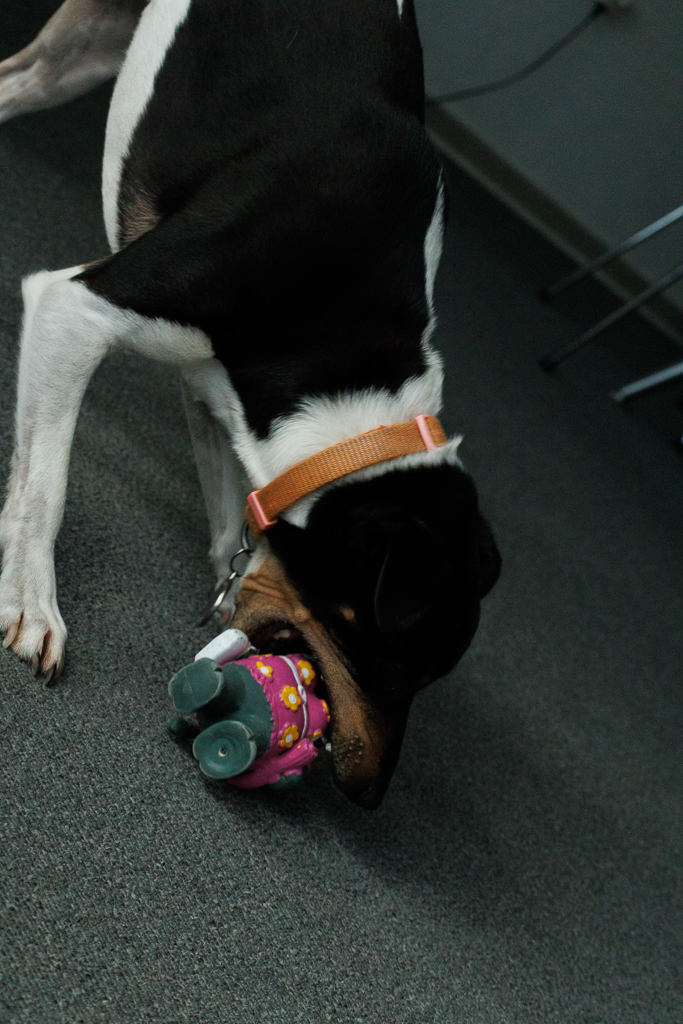Dog: (0, 0, 512, 822)
Humanoid: (151, 622, 381, 803)
